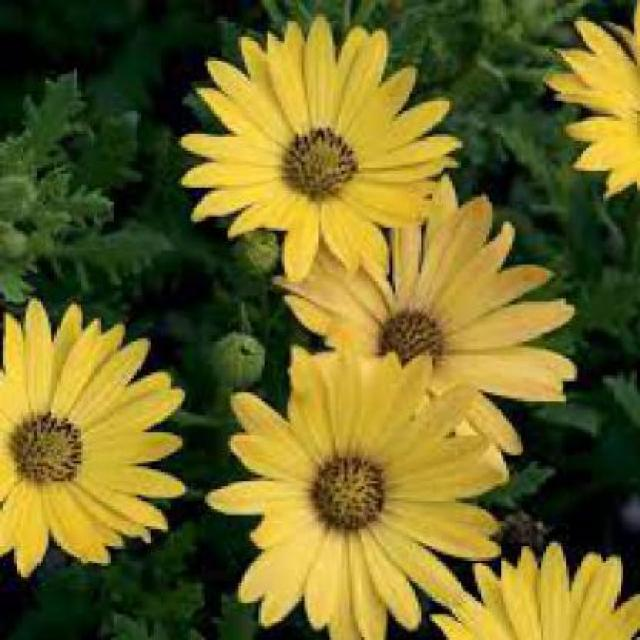Flower: (270, 173, 578, 478), (205, 332, 503, 637), (176, 14, 464, 281), (3, 296, 188, 578), (282, 126, 359, 197), (12, 412, 86, 483), (316, 459, 384, 530), (375, 310, 443, 379)
